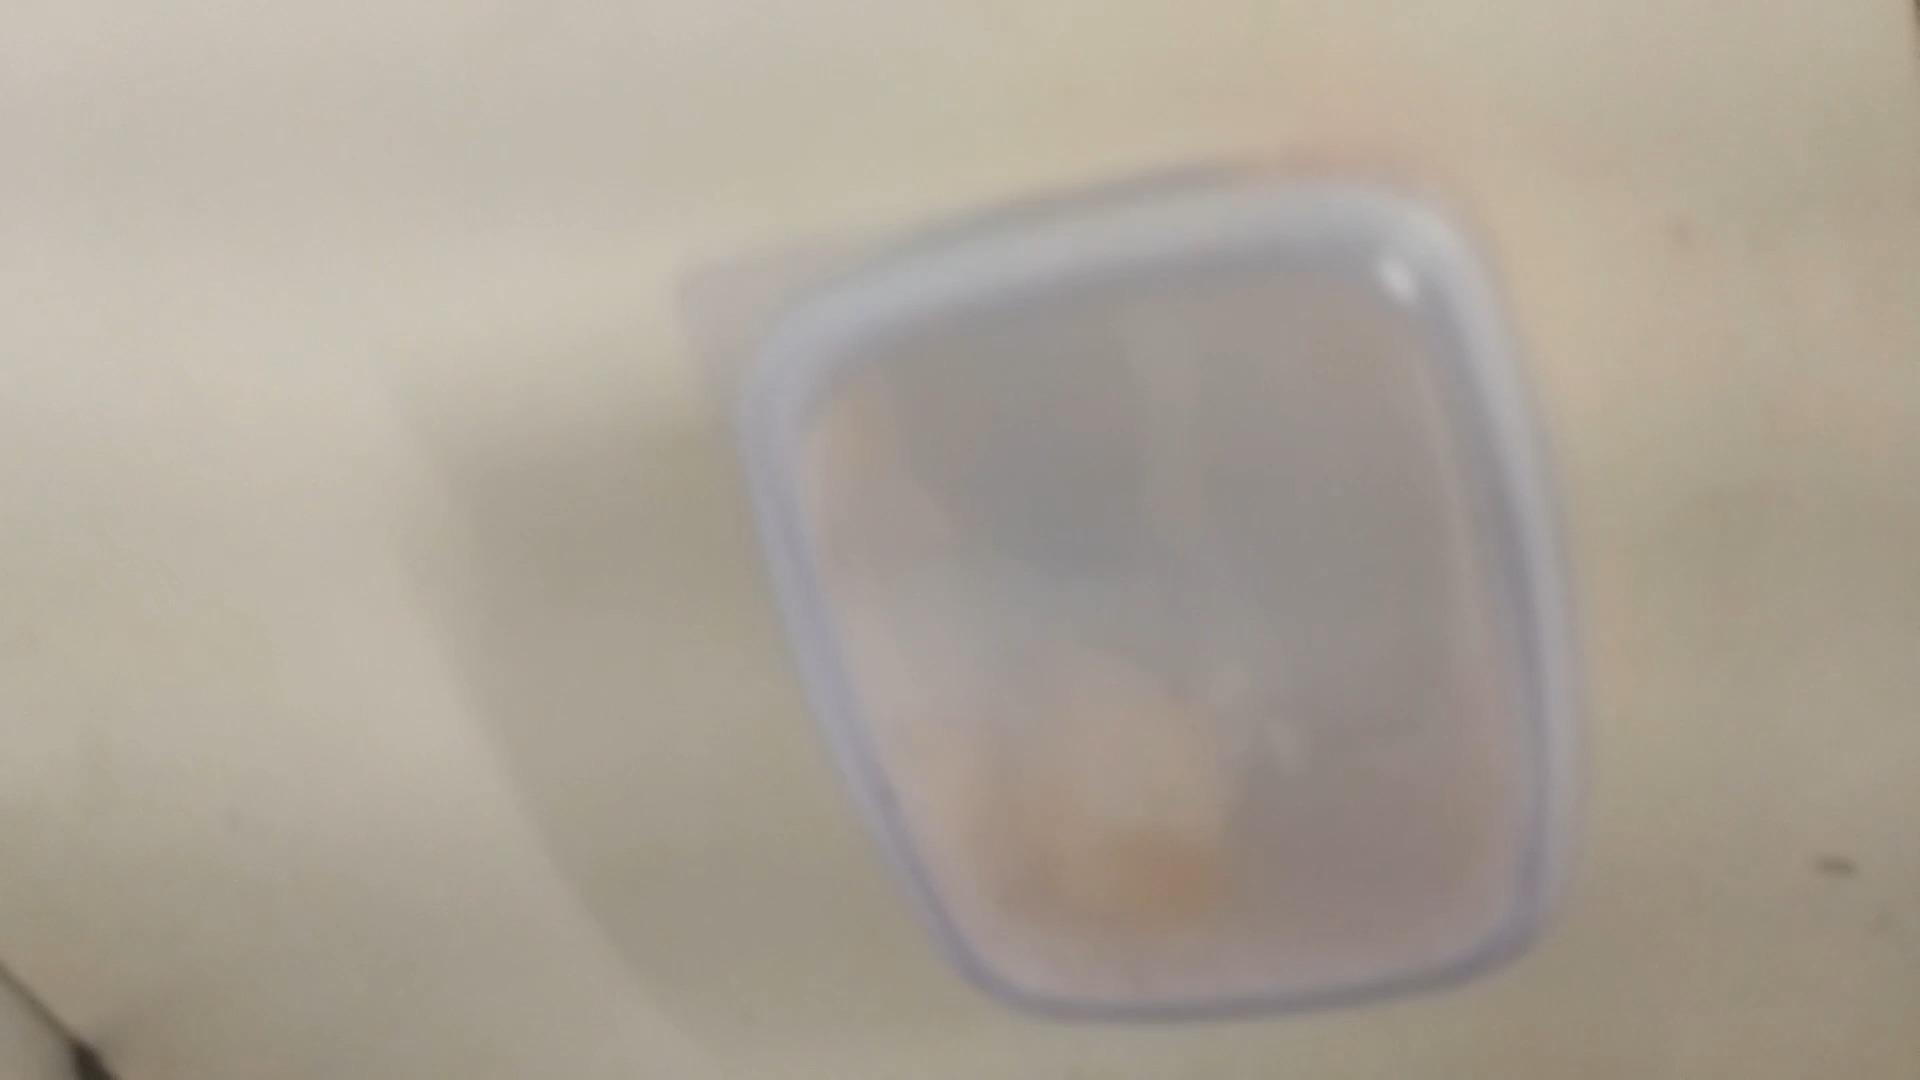butter: (731, 177, 1576, 1026)
